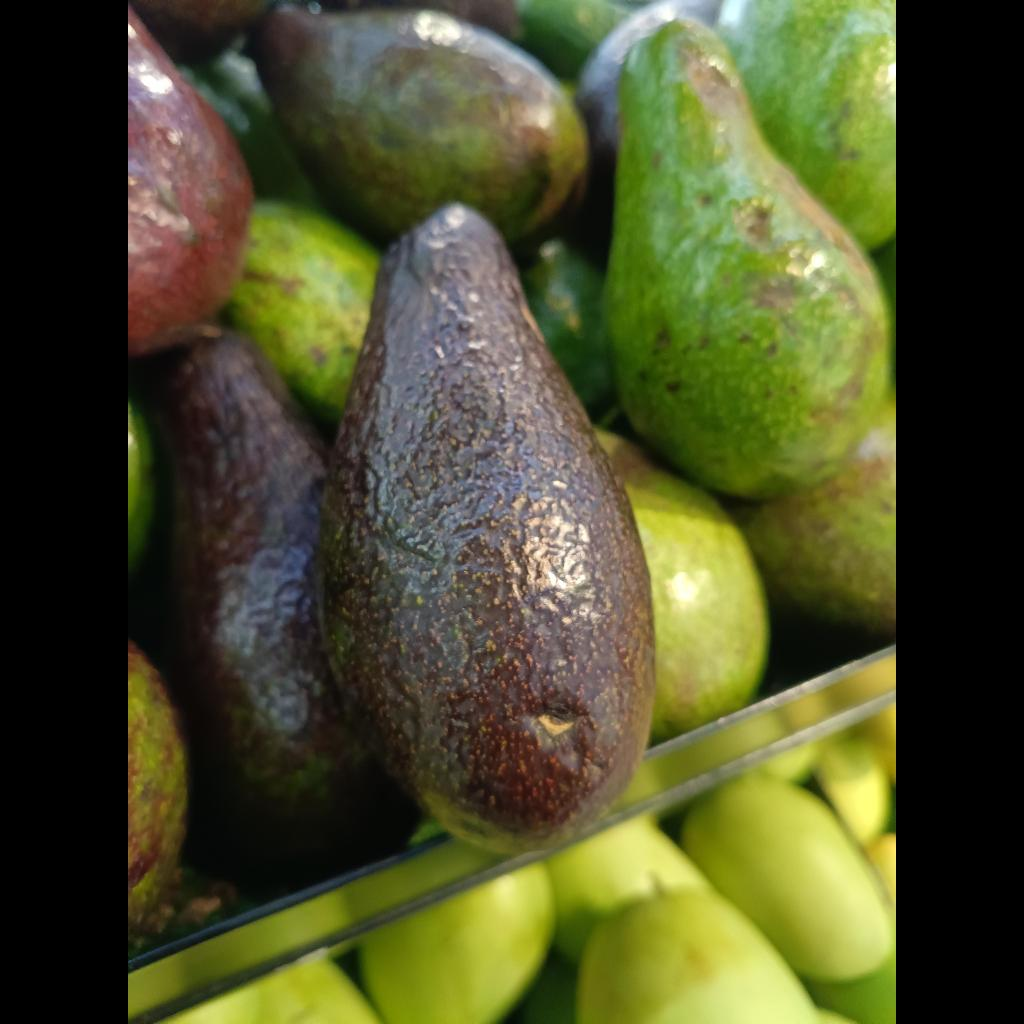healthy: (319, 204, 654, 853)
